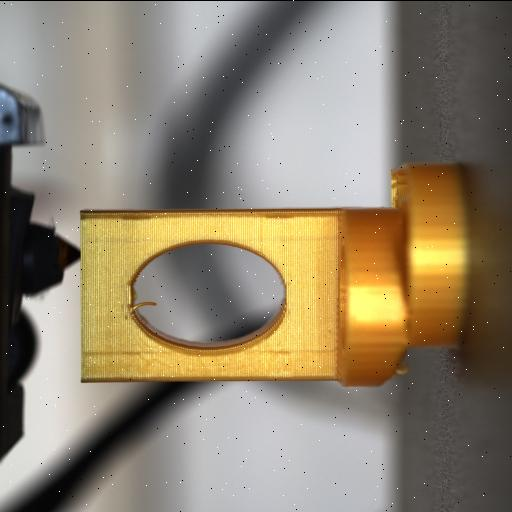layer_shift: (378, 161, 418, 385)
